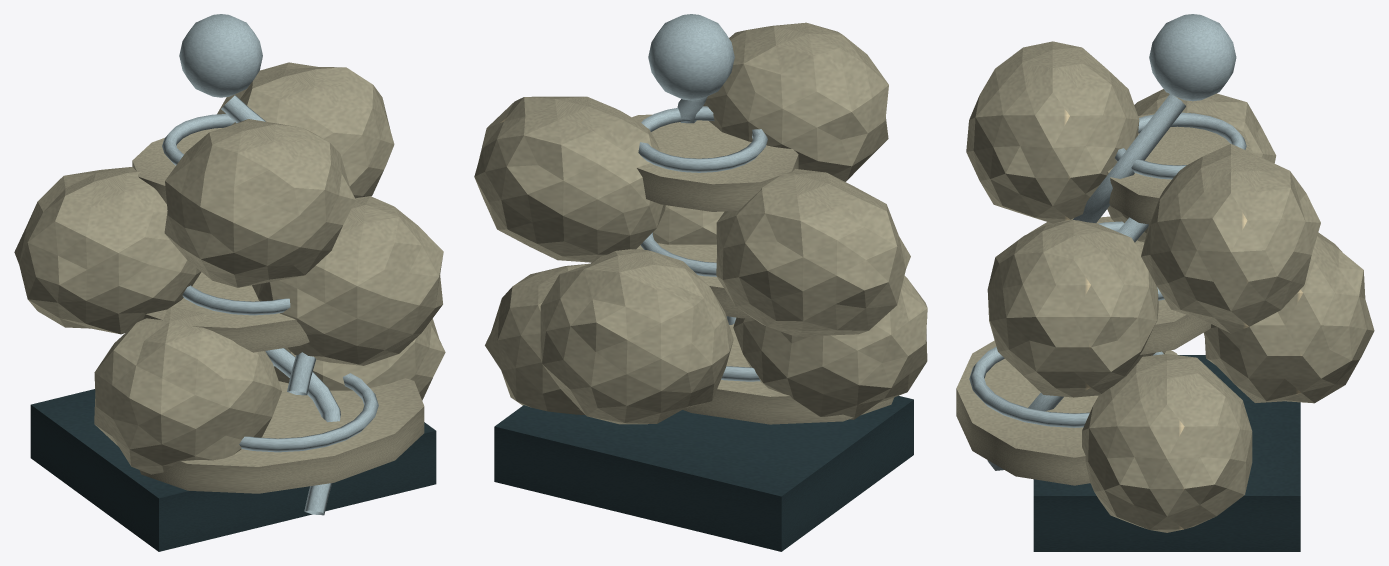
File: filter_3.glb
3 views of the same model, side by side, from view 1: azimuth 30°, elevation 25°; view 2: azimuth 150°, elevation 25°; view 3: azimuth 270°, elevation 25° (orthographic). The views are drawn at different scales.
Parts seen in each view (by area): view 1: static_ornament; view 2: static_ornament; view 3: static_ornament.
Boxes of the visible parts, box(x1,y1,x2,y2) form: static_ornament: box(14, 14, 445, 551); static_ornament: box(474, 14, 927, 551); static_ornament: box(956, 14, 1374, 551).
Size of the model in its own units: 0.923 by 0.995 by 0.8137.
Materials: 1 (1 with a texture image).
